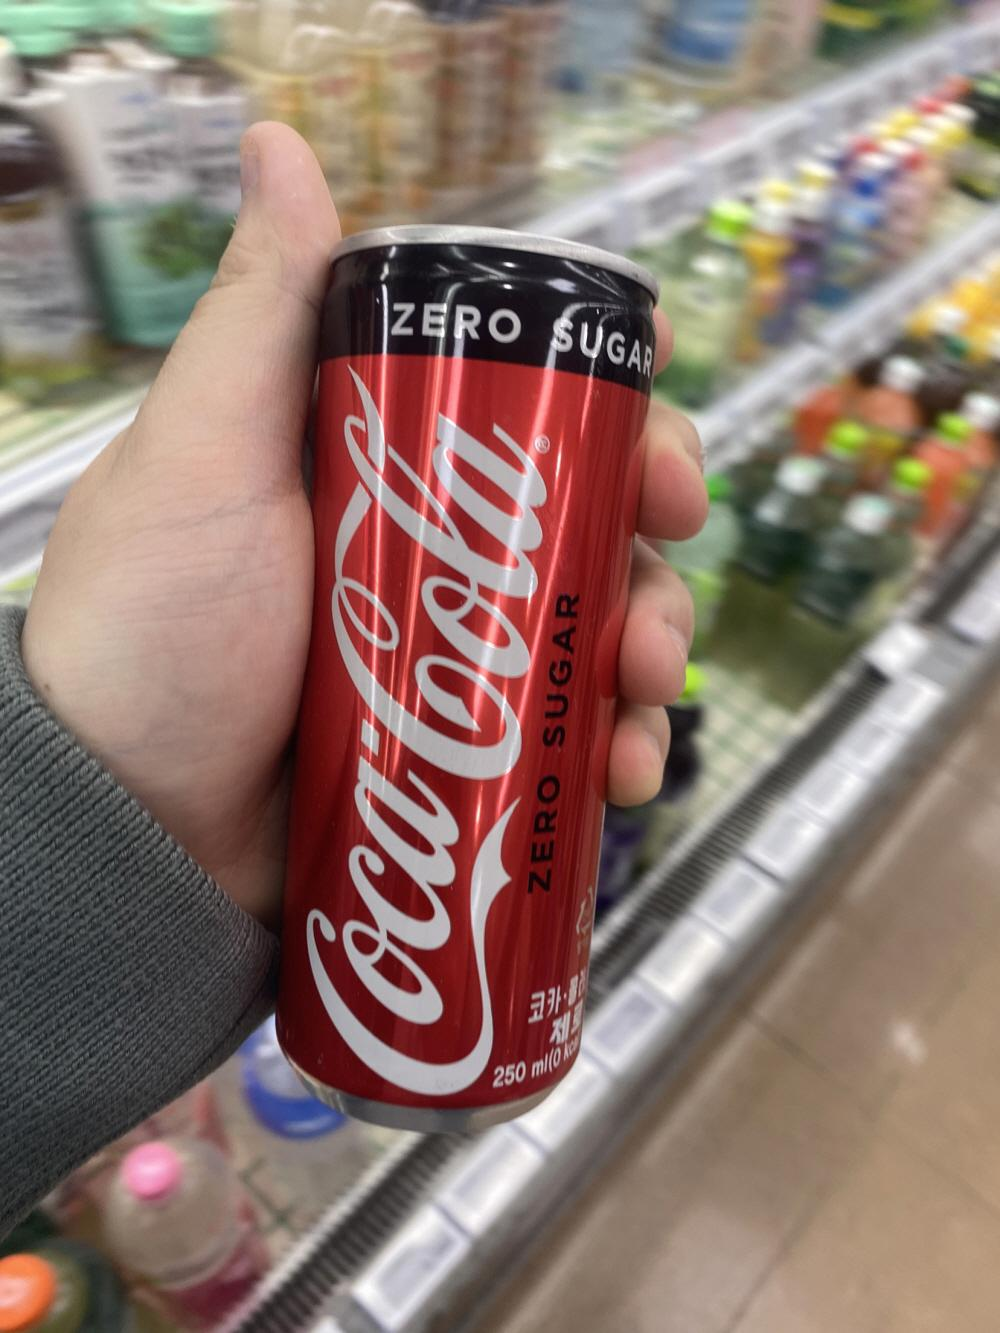cocacola_zero: (288, 221, 667, 1118)
